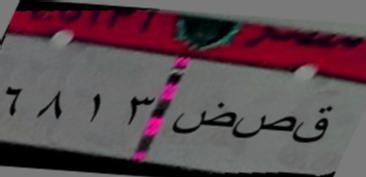1: (84, 92, 108, 128)
3: (122, 91, 159, 130)
6: (1, 82, 24, 123)
8: (34, 83, 65, 128)
daad: (170, 102, 236, 143)
qaaf: (294, 102, 336, 147)
saad: (235, 108, 292, 152)
